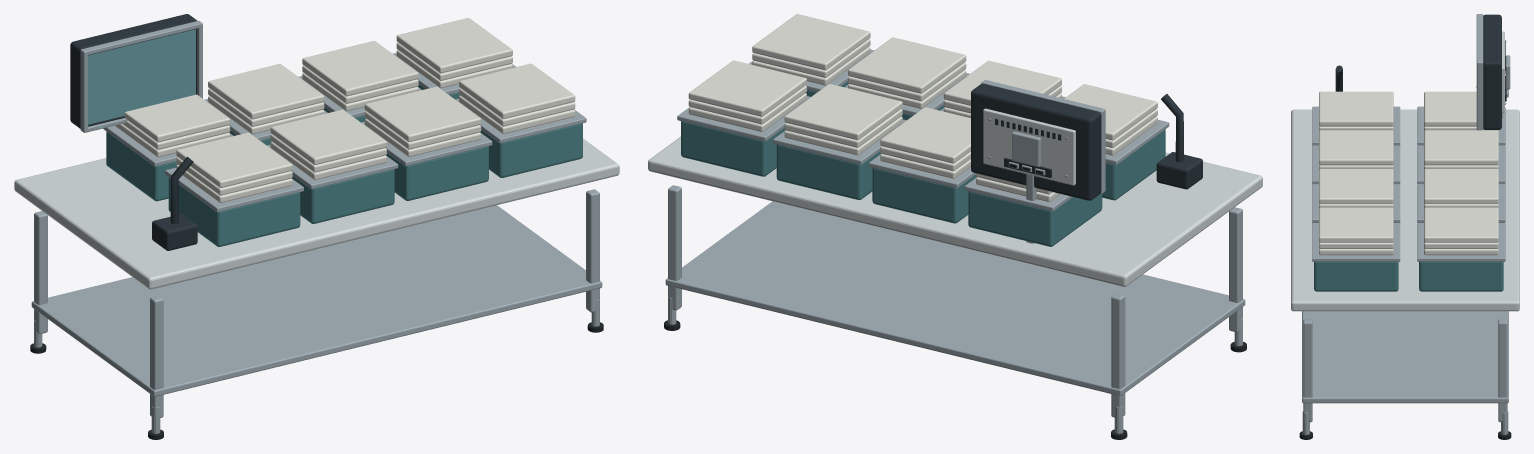
File: SF_ReceivingIsland.fbx
The picture shows the model from 3 angles, left to right: view 1: azimuth 30°, elevation 25°; view 2: azimuth 150°, elevation 25°; view 3: azimuth 270°, elevation 25°; orthographic projection. The views are drawn at different scales.
Parts seen in each view (by area): view 1: SF_ReceivingIsland; view 2: SF_ReceivingIsland; view 3: SF_ReceivingIsland.
Boxes of the visible parts, left/top/right/bottom form: SF_ReceivingIsland: left=14, top=14, right=619, bottom=439; SF_ReceivingIsland: left=648, top=14, right=1262, bottom=439; SF_ReceivingIsland: left=1291, top=14, right=1519, bottom=439.
Size of the model in its own units: 270 by 166 by 135.
